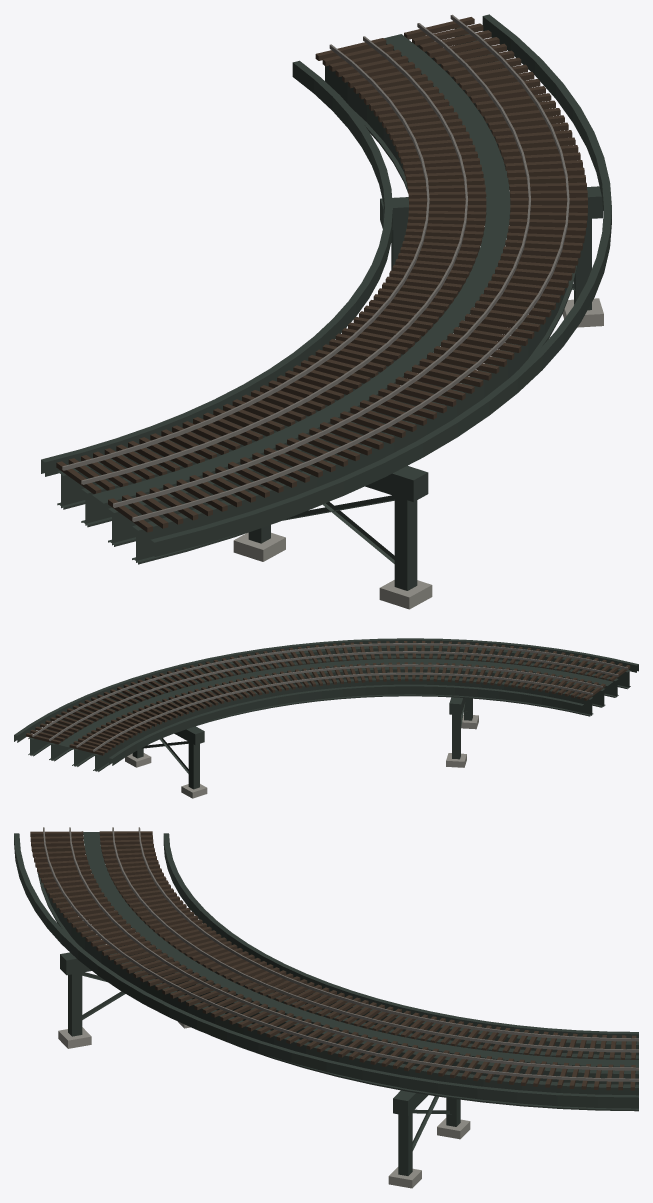
File: l_track_curve.glb
The picture shows the model from 3 angles, top to bottom: view 1: azimuth 30°, elevation 25°; view 2: azimuth 150°, elevation 25°; view 3: azimuth 270°, elevation 25°; orthographic projection. The views are drawn at different scales.
Visible parts, largest first — view 1: l_track_curve; view 2: l_track_curve; view 3: l_track_curve.
Boxes of the visible parts, x1,y1,x2,y2 form: l_track_curve: (41, 14, 611, 609); l_track_curve: (14, 638, 638, 798); l_track_curve: (14, 827, 638, 1188).
Size of the model in its own units: 34.25 by 7 by 34.25.
Materials: 1 (1 with a texture image).
